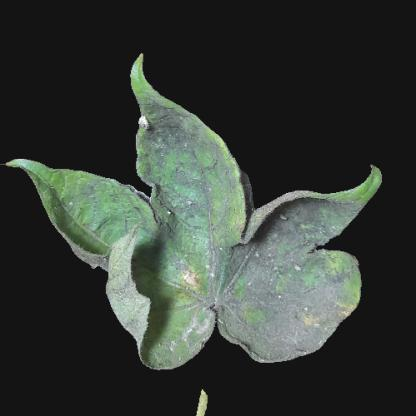curl_stage2: (108, 242, 134, 324)
sooty: (232, 268, 338, 347), (143, 130, 209, 252), (262, 202, 330, 274), (191, 254, 237, 328)
